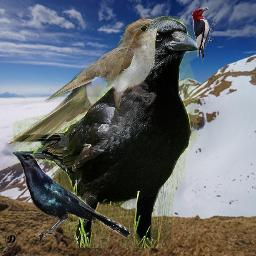Crow: (13, 16, 203, 248), (12, 152, 131, 244)
Cuckoo: (6, 15, 171, 147)
Woodpecker: (192, 7, 215, 63)
